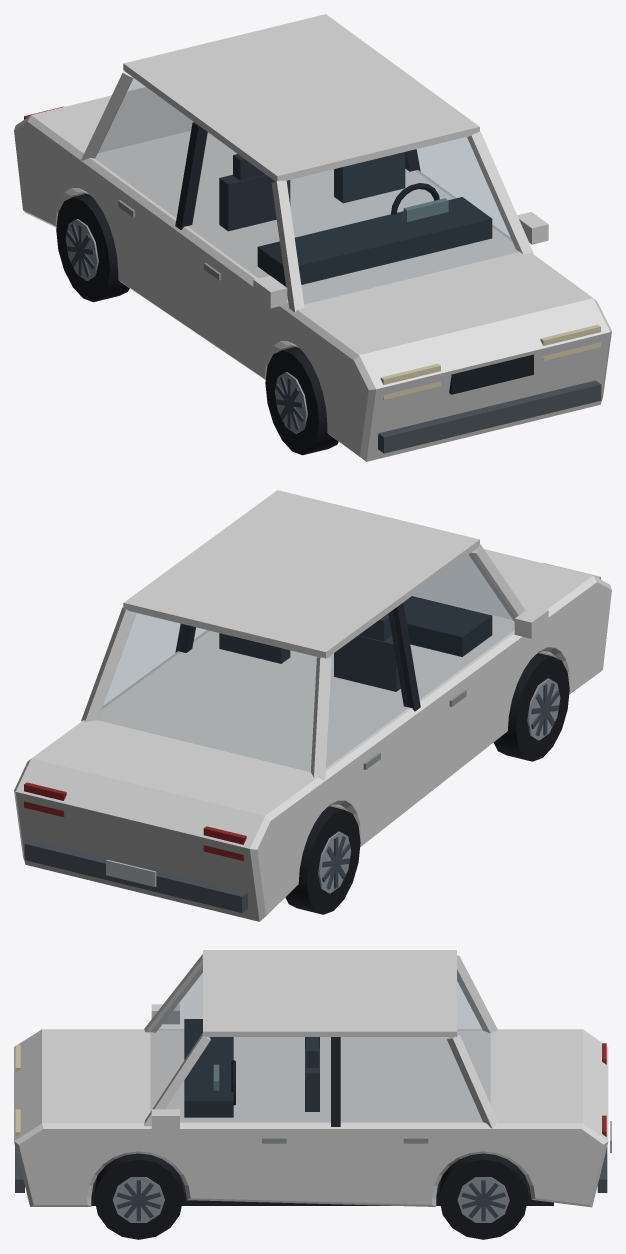
The model's file is source.glb.
The picture shows the model from 3 angles, top to bottom: view 1: azimuth 30°, elevation 25°; view 2: azimuth 150°, elevation 25°; view 3: azimuth 270°, elevation 25°; orthographic projection. The views are drawn at different scales.
Visible parts, largest first — view 1: body, windows, wheel-mesh (×2); view 2: body, windows, wheel-mesh (×2); view 3: body, windows, wheel-mesh (×2).
Part boxes in pixels (x1=…): body: x1=14, y1=14, x2=611, y2=461; windows: x1=95, y1=78, x2=518, y2=303; wheel-mesh (×2): x1=56, y1=193, x2=338, y2=455; body: x1=14, y1=490, x2=611, y2=921; windows: x1=98, y1=553, x2=514, y2=771; wheel-mesh (×2): x1=285, y1=653, x2=569, y2=914; body: x1=14, y1=950, x2=611, y2=1207; windows: x1=151, y1=966, x2=489, y2=1121; wheel-mesh (×2): x1=94, y1=1153, x2=527, y2=1239.
Size of the model in its own units: 2.15 by 1.78 by 4.86.
